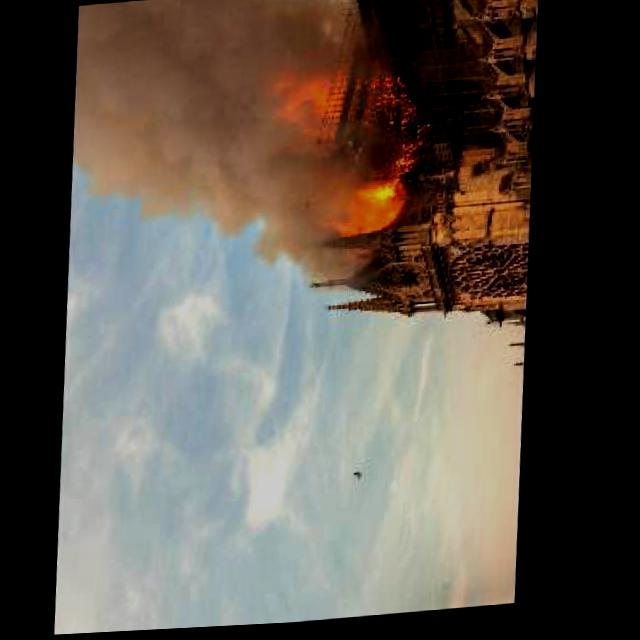Fire: (256, 54, 353, 149), (313, 174, 418, 250)
Smoke: (64, 0, 320, 256)
